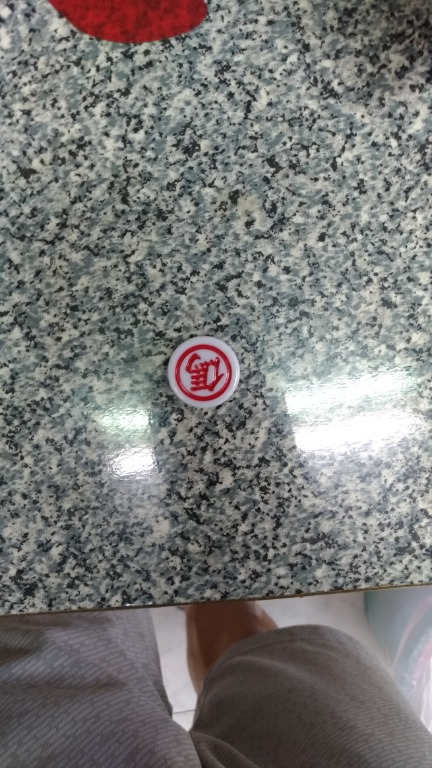r-knight: (165, 333, 250, 420)
